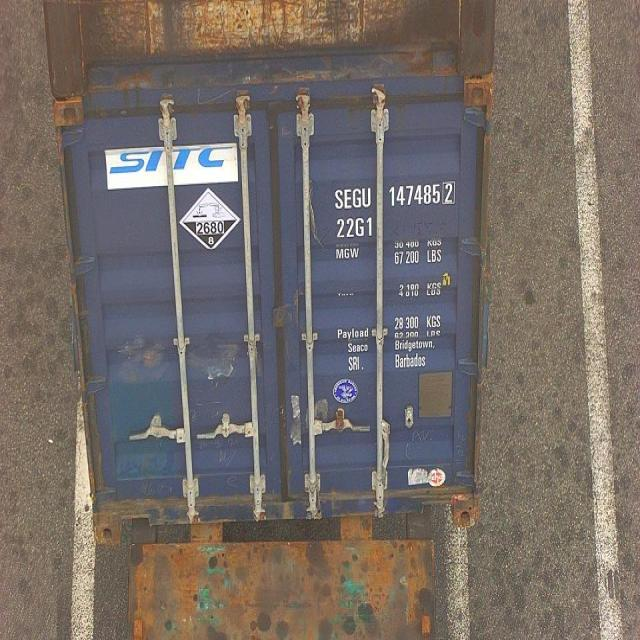ISO: (336, 212, 374, 237)
container_number: (330, 186, 456, 207)
